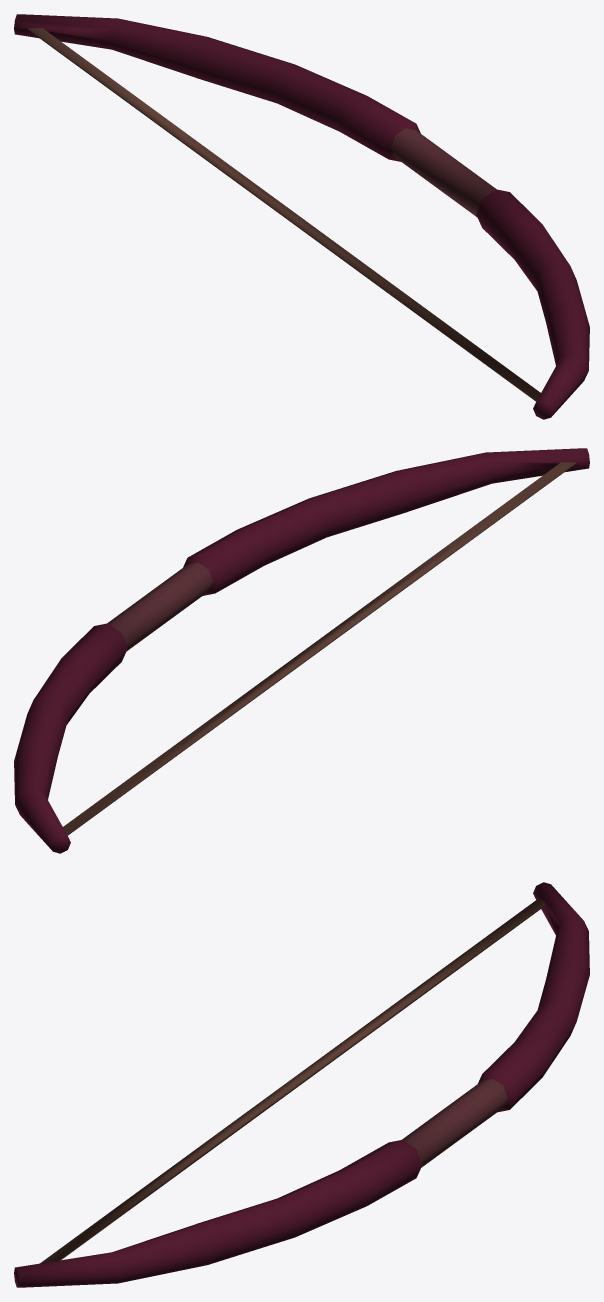
The model's file is WeaponBowStraight.dae.
The picture shows the model from 3 angles, top to bottom: view 1: azimuth 30°, elevation 25°; view 2: azimuth 150°, elevation 25°; view 3: azimuth 330°, elevation 25°; orthographic projection.
Parts seen in each view (by area): view 1: BowStraight; view 2: BowStraight; view 3: BowStraight.
Part boxes in pixels (x1,y1,x2,y2): BowStraight: (14, 14, 589, 419); BowStraight: (14, 448, 589, 853); BowStraight: (14, 882, 589, 1287).
Bounding box in the file's own units: 0.2697 × 1.28 × 0.0545.
